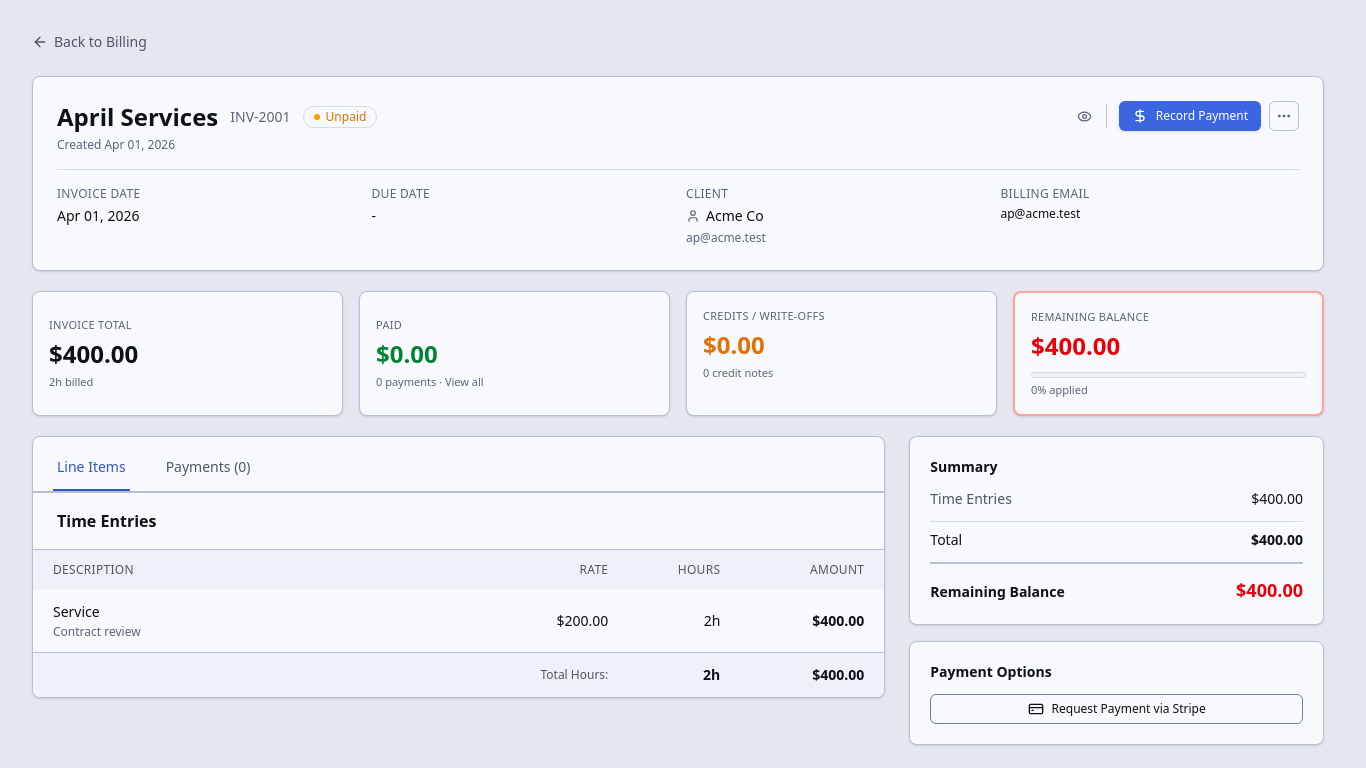
Test: when Void Invoice is offered › is hidden from a member without billing.manageInvoices
This screenshot has width=1366, height=768.
Click the button named "More actions" at [1284, 116], box top-left (1269, 101), bottom-right (1299, 131)
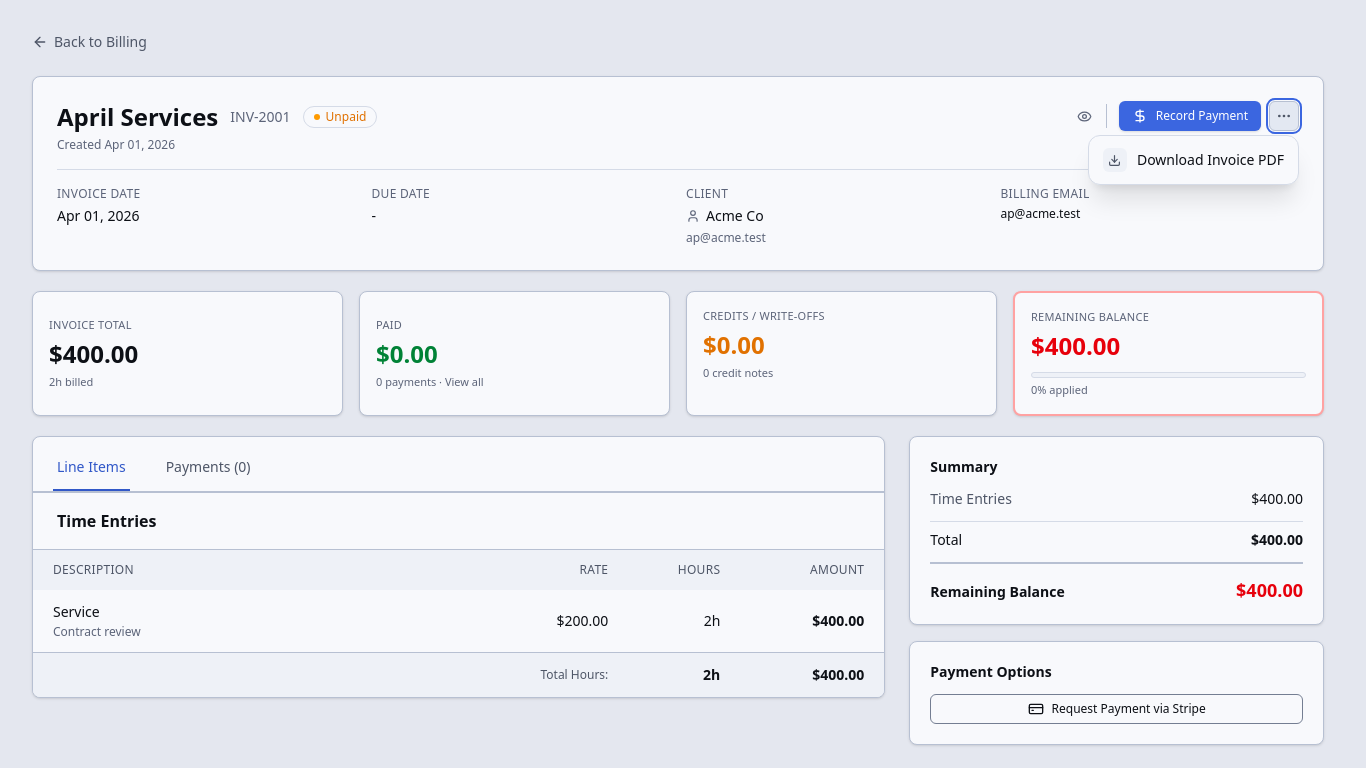
Result: the button "Download Invoice PDF" is shown at top-left (1093, 140), bottom-right (1294, 180)
